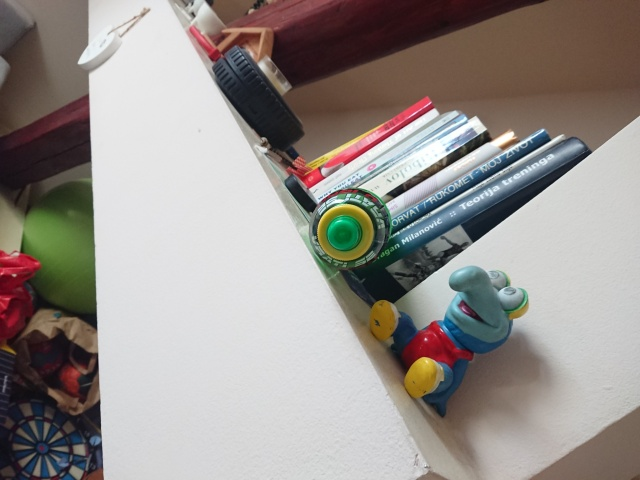Vindi Iso Sport Lemon-Grapefruit 500mL: (305, 186, 394, 273)
